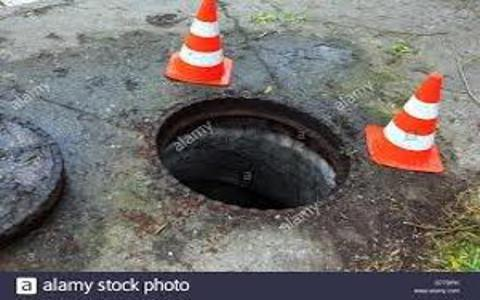open manhole: (118, 80, 366, 232)
